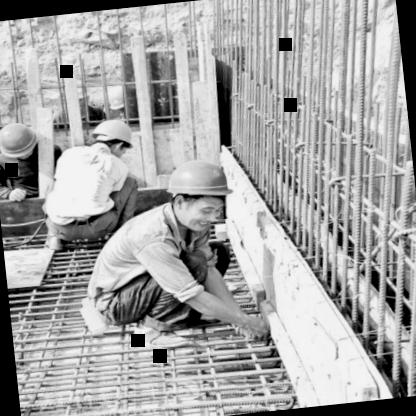helmet: (154, 152, 233, 232), (89, 115, 140, 165), (0, 118, 41, 164), (98, 82, 135, 119), (64, 74, 94, 112)
